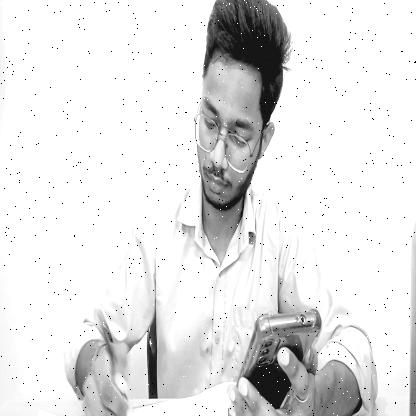Distracted: (192, 0, 291, 219)
